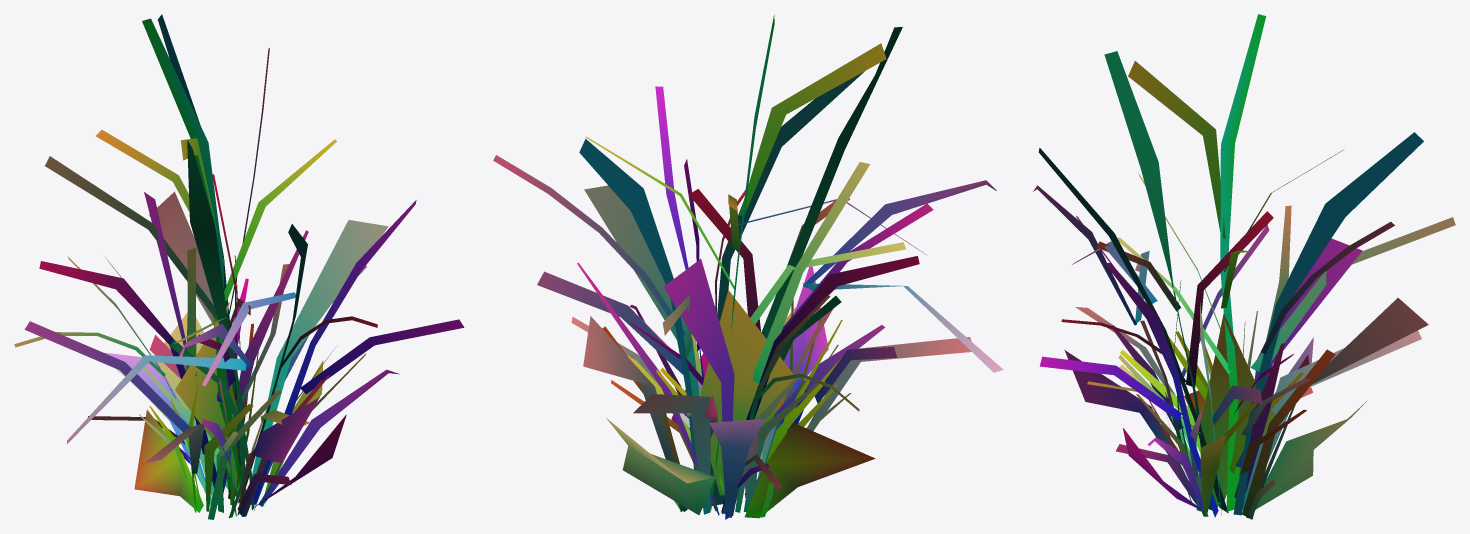
File: Wild_Grass_sjliZ_Mid_sjliZ_VarE_LOD1.fbx
The picture shows the model from 3 angles, left to right: view 1: azimuth 30°, elevation 25°; view 2: azimuth 150°, elevation 25°; view 3: azimuth 270°, elevation 25°; orthographic projection. The views are drawn at different scales.
Parts seen in each view (by area): view 1: _45bf_VarE_LOD2; view 2: _45bf_VarE_LOD2; view 3: _45bf_VarE_LOD2.
Boxes of the visible parts, <box> form: _45bf_VarE_LOD2: <box>14,14,464,519</box>; _45bf_VarE_LOD2: <box>493,14,1003,519</box>; _45bf_VarE_LOD2: <box>1033,14,1455,519</box>.
Size of the model in its own units: 122 by 155 by 128.
